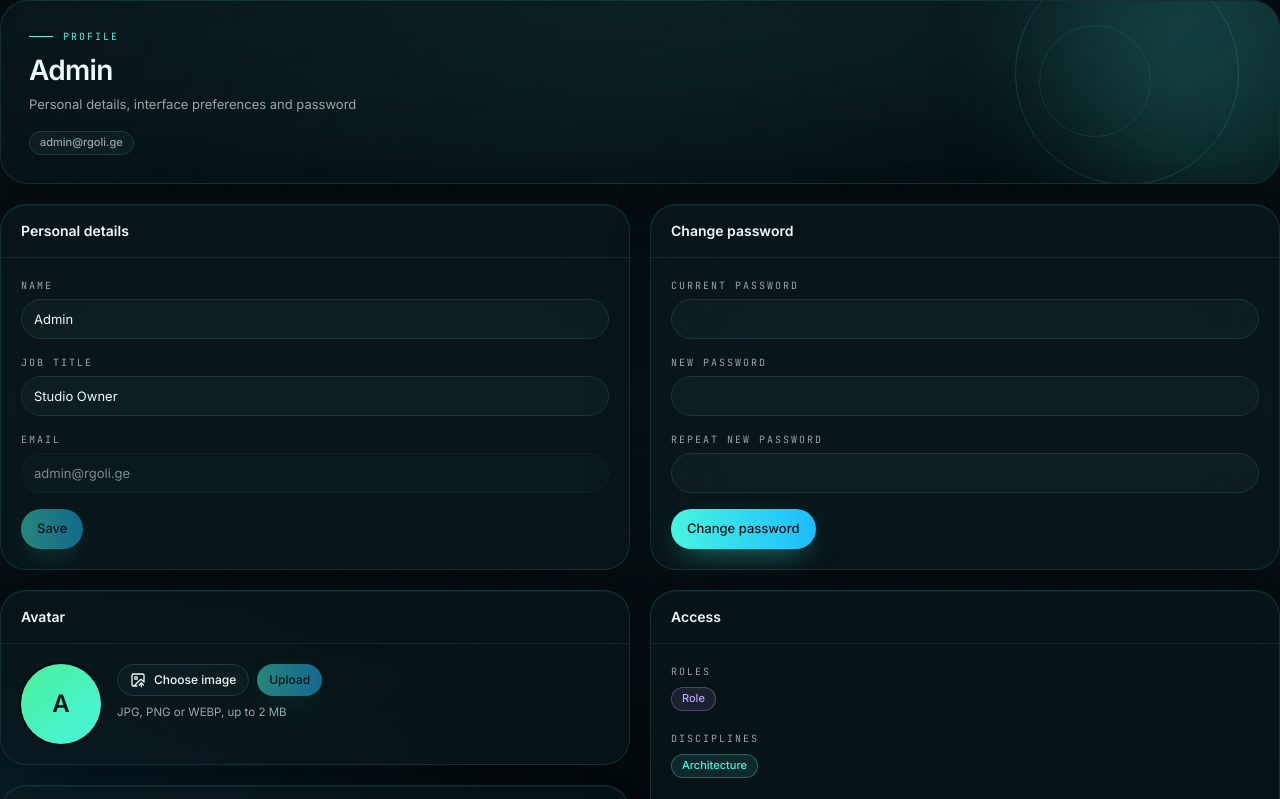
Test: ProfilePage › validates password confirmation and maps a wrong current password
The image size is (1280, 799).
Type "wrong" into the password field labelled "Current password". click: {"x": 965, "y": 319}
box: [671,299,1259,339]
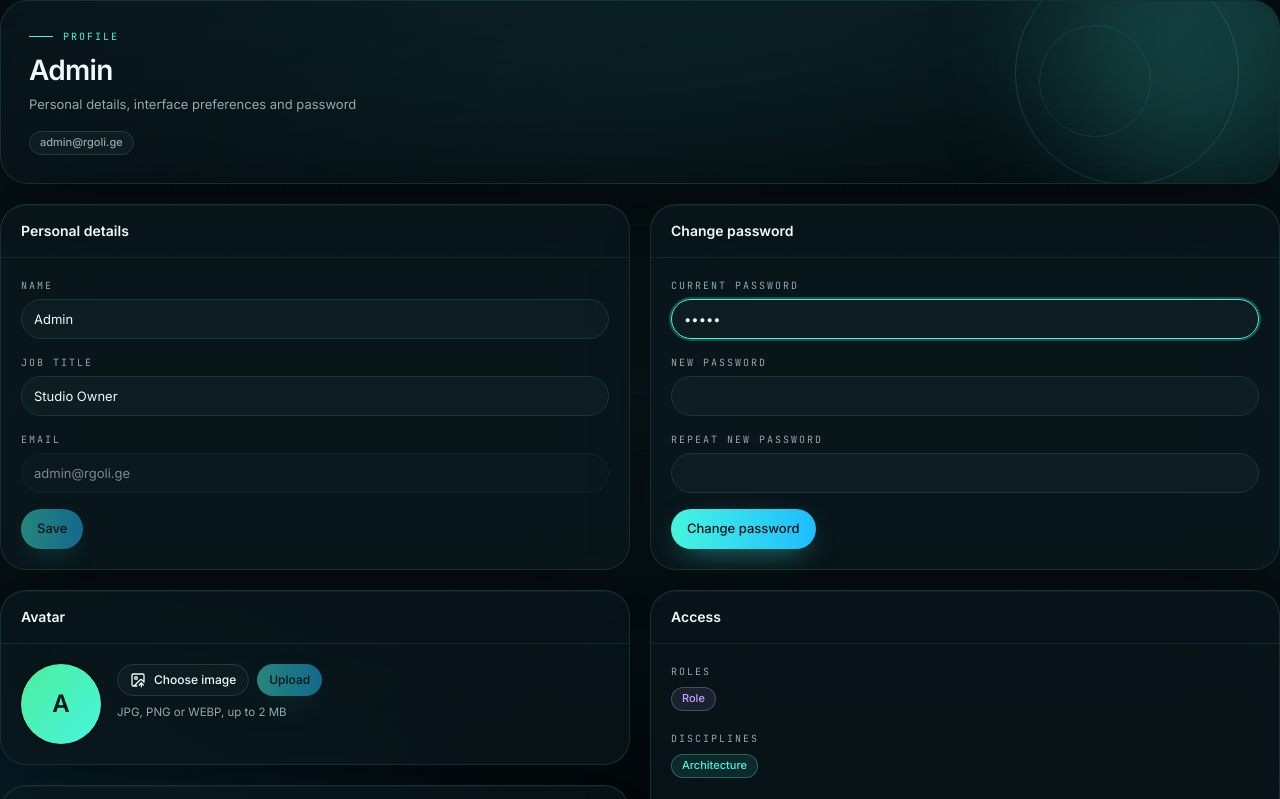
Type "newpass123" into the password field labelled "New password". click: {"x": 965, "y": 396}
box: [671,376,1259,416]
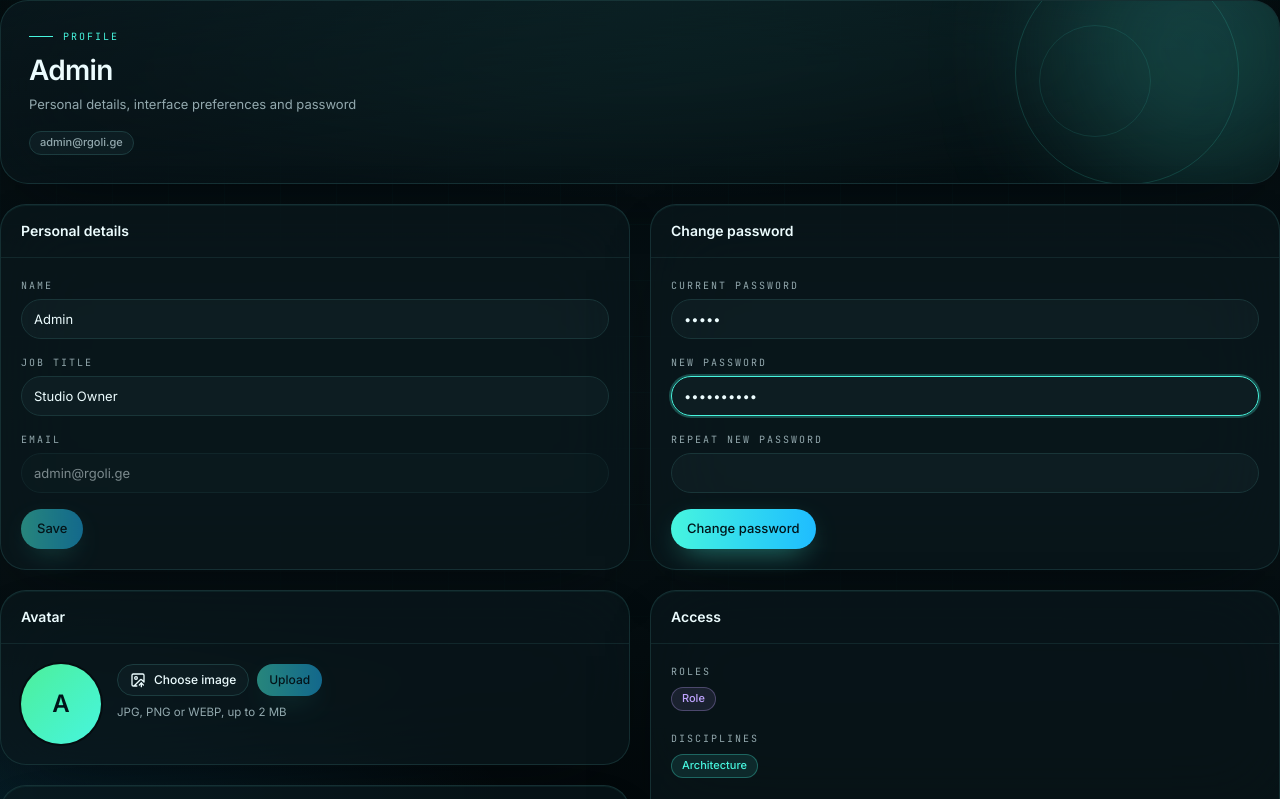
Type "different1" into the password field labelled "Repeat new password". click: {"x": 965, "y": 473}
box: [671,453,1259,493]
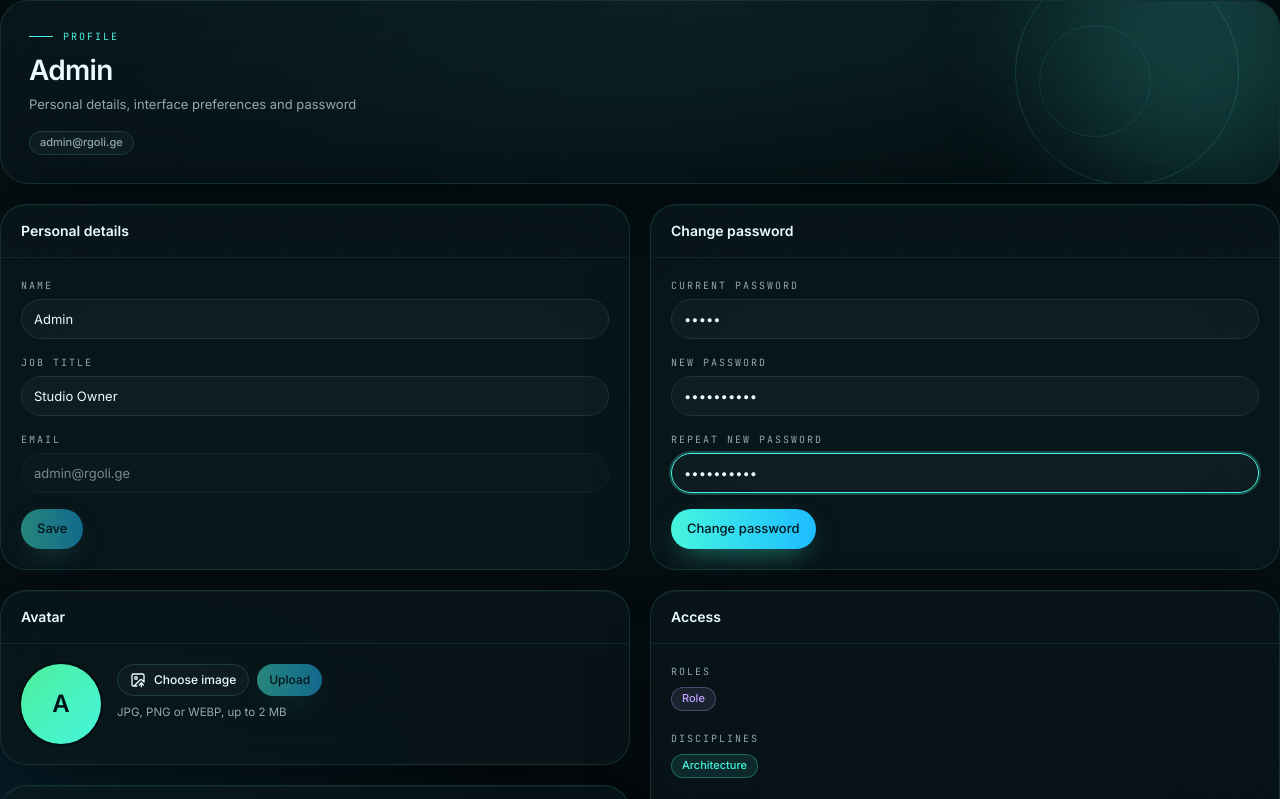
Click the button "Change password". click: {"x": 743, "y": 529}
box: [671,509,816,549]
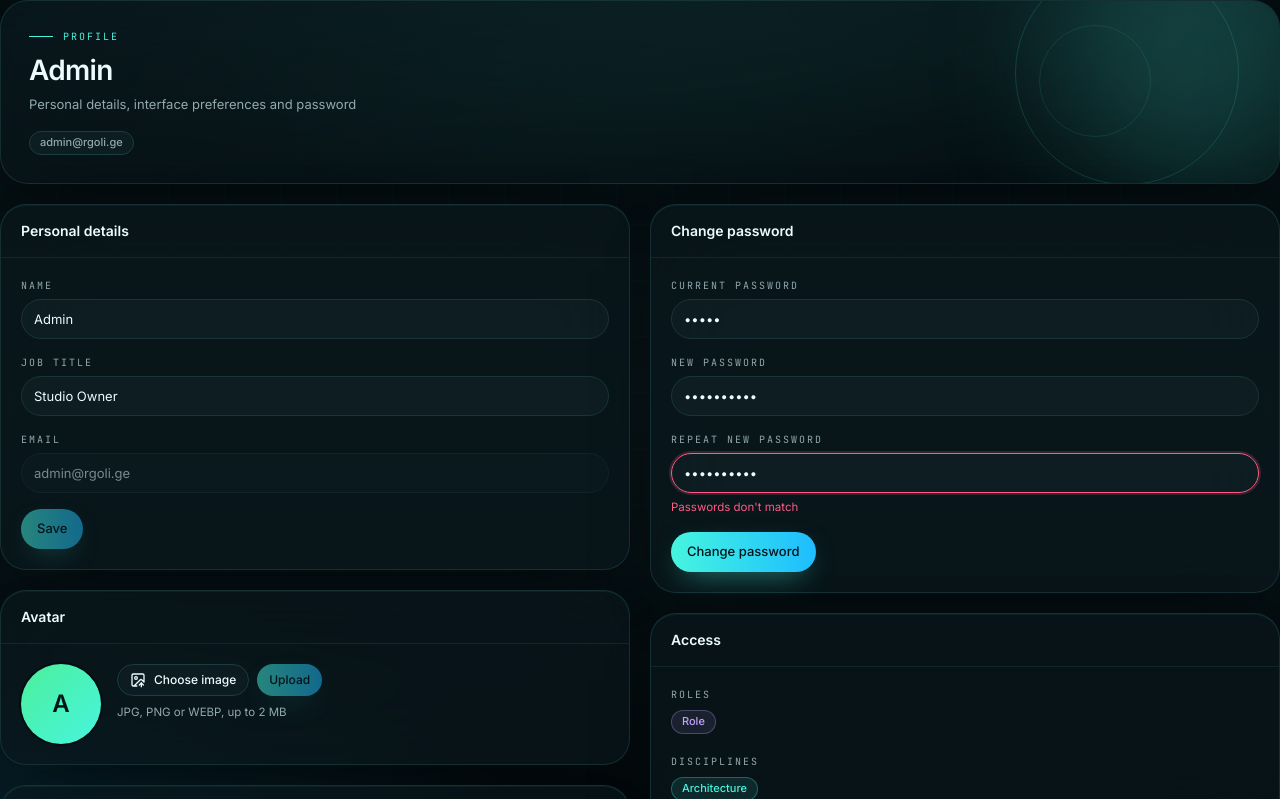
Now the text "Passwords don't match" is shown, box [671,500,798,514]
Type "newpass123" into the password field labelled "Repeat new password". click: {"x": 965, "y": 473}
box: [671,453,1259,493]
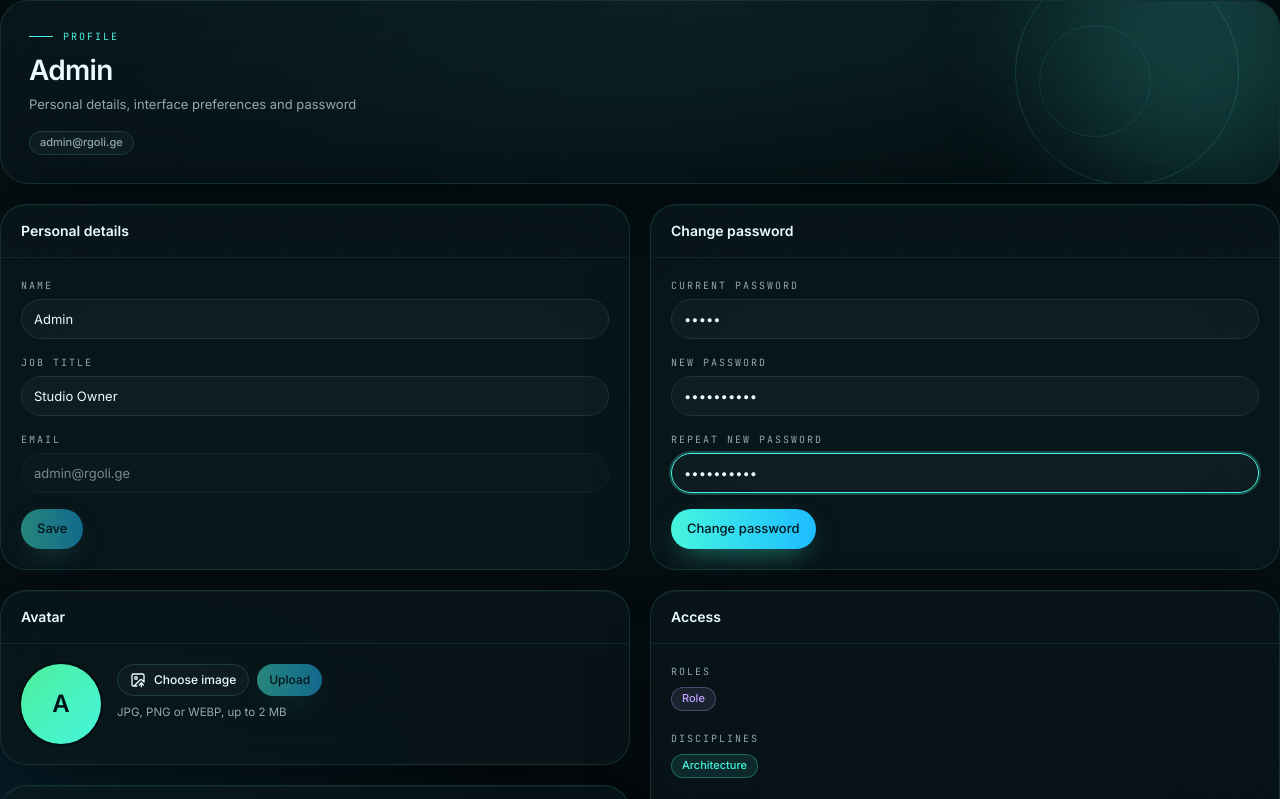
Click the button "Change password". click: {"x": 743, "y": 529}
box: [671,509,816,549]
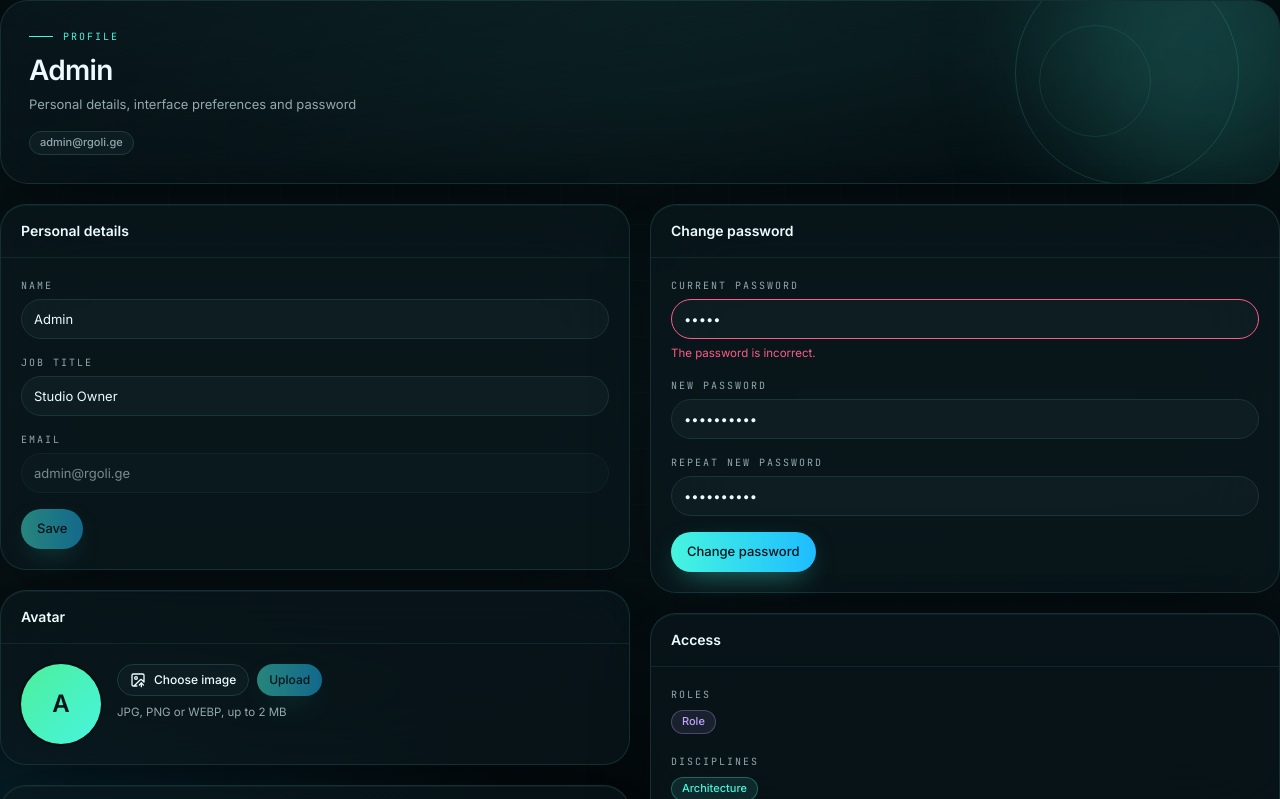
Now the text "The password is incorrect." is shown, box [671,346,816,360]
